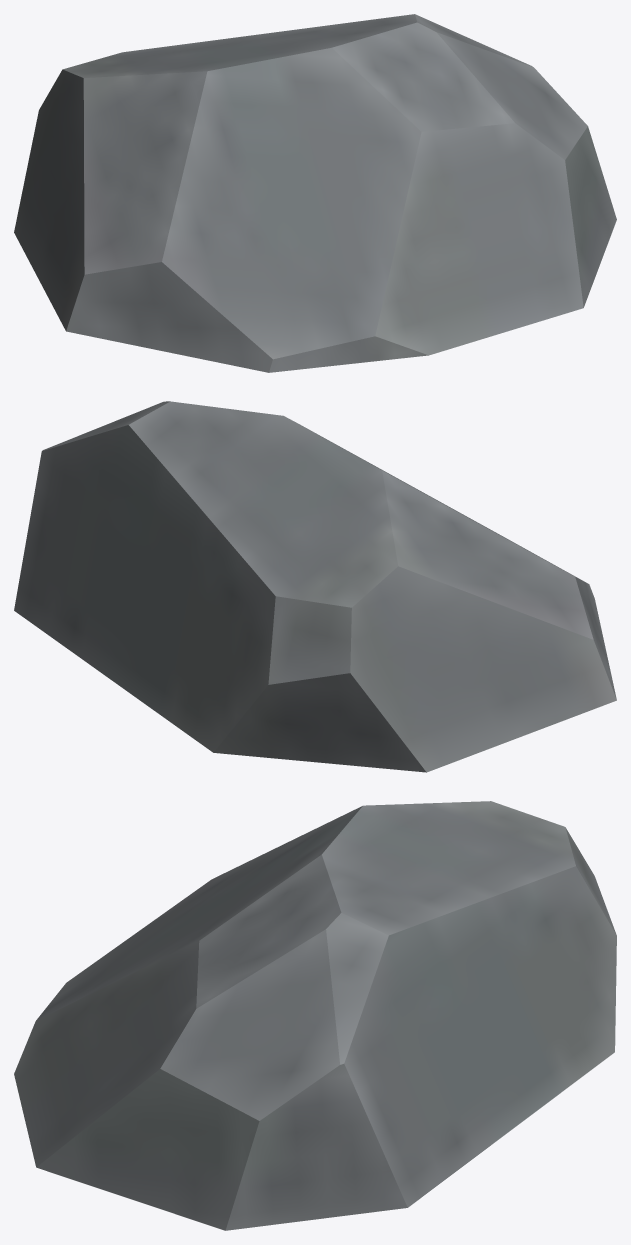
Rendered from rock-3.glb.
3 renders of one model, top to bottom at view 1: azimuth 30°, elevation 25°; view 2: azimuth 150°, elevation 25°; view 3: azimuth 270°, elevation 25°, orthographic. The views are drawn at different scales.
Parts seen in each view (by area): view 1: model; view 2: model; view 3: model.
Part boxes in pixels (bbox=[...]): model: bbox=[14, 14, 616, 372]; model: bbox=[14, 401, 616, 772]; model: bbox=[14, 801, 616, 1230].
Bounding box in the file's own units: 0.2815 × 0.1037 × 0.2373.
1 material, 1 textured.
